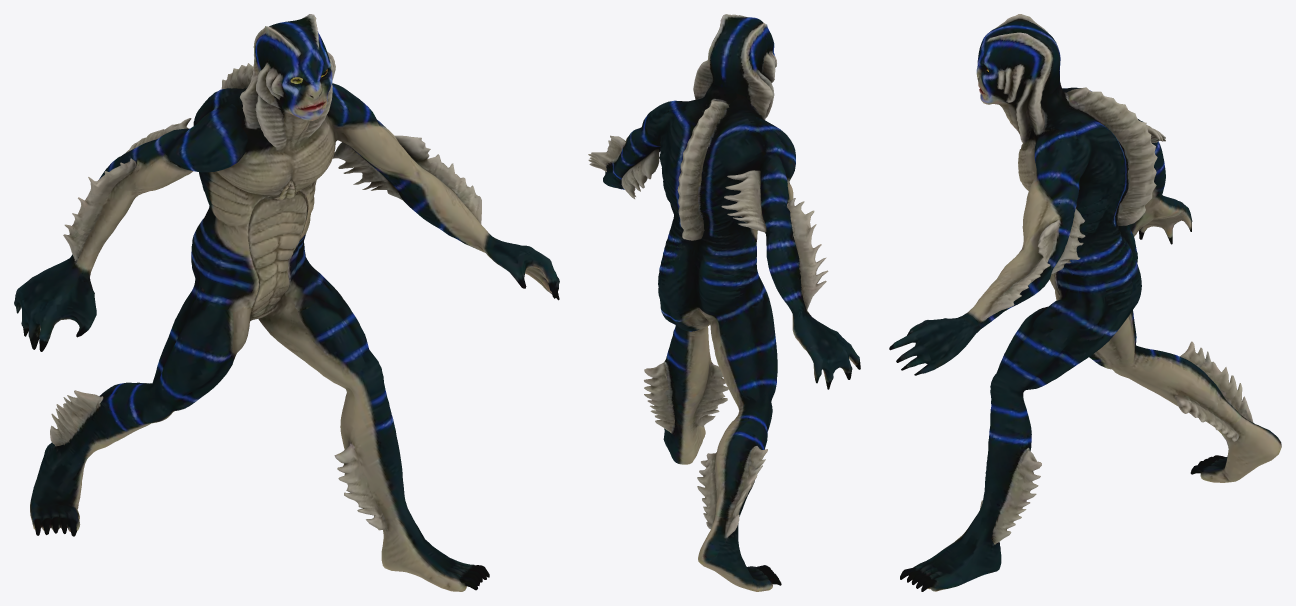
Rendered from MZ4250 - SeaSpawn_2a.glb.
3 renders of one model, left to right at view 1: azimuth 30°, elevation 25°; view 2: azimuth 150°, elevation 25°; view 3: azimuth 270°, elevation 25°, orthographic. The views are drawn at different scales.
Parts seen in each view (by area): view 1: Body.002; view 2: Body.002; view 3: Body.002.
Boxes of the visible parts, x1,y1,x2,y2 form: Body.002: [14, 14, 559, 591]; Body.002: [588, 14, 860, 591]; Body.002: [889, 14, 1281, 591].
Size of the model in its own units: 76.8 by 101 by 70.27.
1 material, 1 textured.
